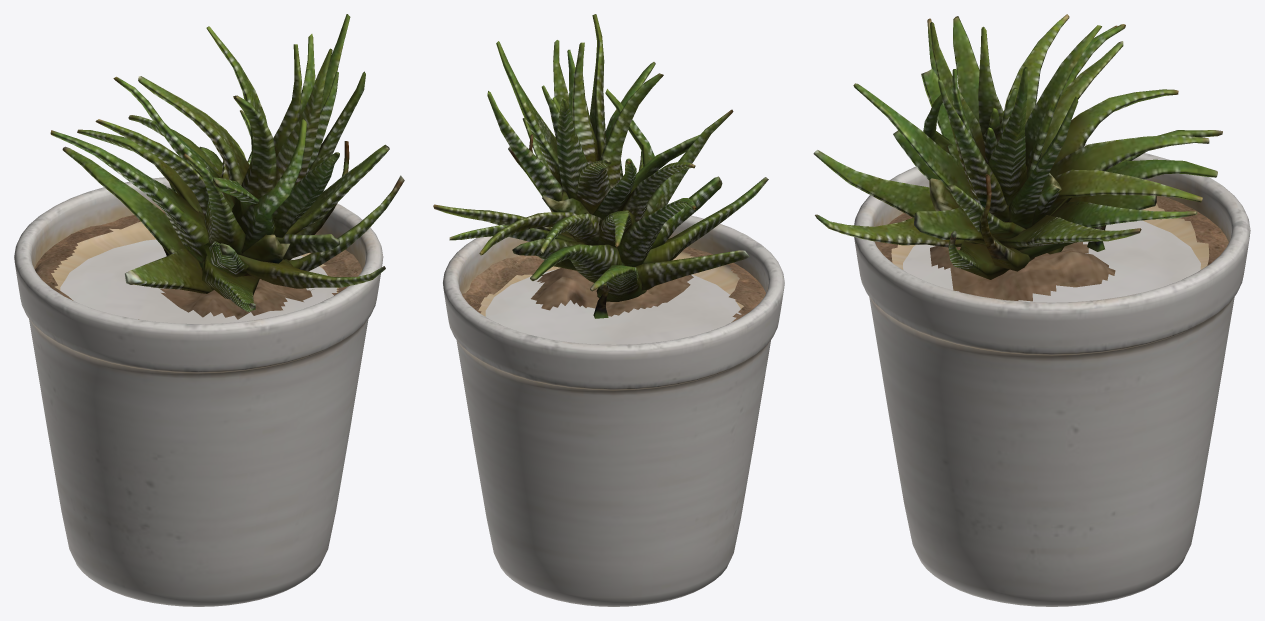
Rendered from studio-plant.glb.
The picture shows the model from 3 angles, left to right: view 1: azimuth 30°, elevation 25°; view 2: azimuth 150°, elevation 25°; view 3: azimuth 270°, elevation 25°; orthographic projection. The views are drawn at different scales.
Visible parts, largest first — view 1: potted_plant_04_pot, potted_plant_04_plant, potted_plant_04_dirt; view 2: potted_plant_04_pot, potted_plant_04_plant, potted_plant_04_dirt; view 3: potted_plant_04_pot, potted_plant_04_plant, potted_plant_04_dirt.
Part boxes in pixels (<box>): potted_plant_04_pot: <box>14,177,383,606</box>; potted_plant_04_plant: <box>50,14,404,311</box>; potted_plant_04_dirt: <box>34,211,362,319</box>; potted_plant_04_pot: <box>443,215,784,606</box>; potted_plant_04_plant: <box>433,14,768,318</box>; potted_plant_04_dirt: <box>462,247,765,322</box>; potted_plant_04_pot: <box>854,144,1250,606</box>; potted_plant_04_plant: <box>813,14,1222,279</box>; potted_plant_04_dirt: <box>875,196,1228,301</box>.
Size of the model in its own units: 0.1679 by 0.2675 by 0.1848.
1 material, 1 textured.
